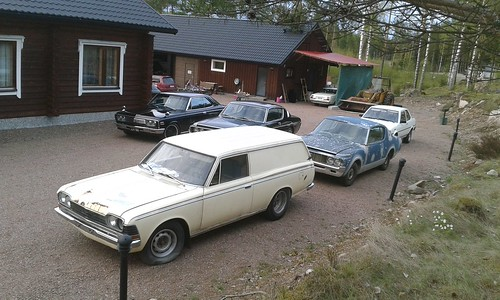building: (1, 1, 167, 133), (155, 10, 366, 107)
car: (55, 124, 322, 255), (303, 113, 402, 178), (204, 98, 311, 143), (128, 93, 224, 136), (370, 103, 420, 144)
vegetation: (348, 1, 500, 86)
